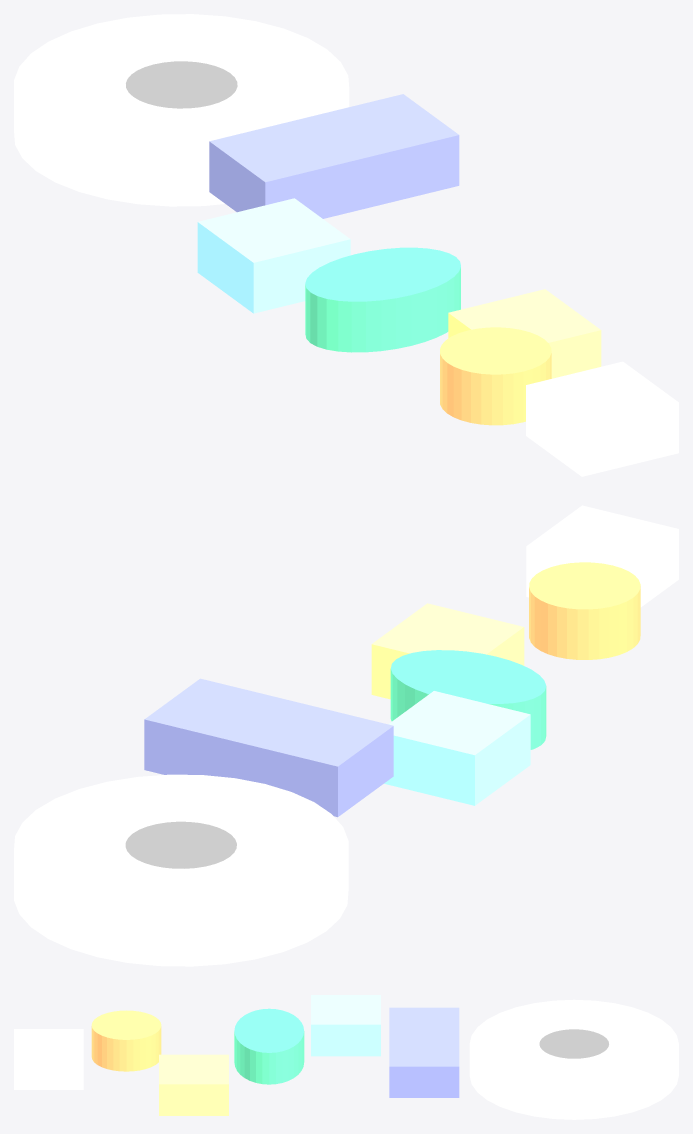
Rendered from map002.fbx.
3 renders of one model, top to bottom at view 1: azimuth 30°, elevation 25°; view 2: azimuth 150°, elevation 25°; view 3: azimuth 270°, elevation 25°, orthographic. The views are drawn at different scales.
Visible parts, largest first — view 1: 7, 6, 4, 1, 5, 2, 3, 7-1; view 2: 7, 6, 5, 2, 1, 4, 3, 7-1; view 3: 7, 6, 4, 3, 5, 1, 2, 7-1.
Part boxes in pixels (x1,y1,x2,y2): 7: [14, 14, 349, 206]; 6: [209, 94, 459, 218]; 4: [305, 247, 460, 352]; 1: [526, 361, 678, 476]; 5: [197, 198, 350, 313]; 2: [440, 327, 551, 425]; 3: [448, 289, 601, 378]; 7-1: [126, 61, 237, 108]; 7: [14, 774, 348, 966]; 6: [144, 678, 393, 817]; 5: [384, 691, 530, 805]; 2: [529, 562, 640, 659]; 1: [526, 505, 678, 607]; 4: [390, 650, 546, 749]; 3: [371, 603, 524, 699]; 7-1: [125, 821, 236, 868]; 7: [469, 999, 678, 1119]; 6: [389, 1007, 459, 1097]; 4: [234, 1008, 304, 1084]; 3: [159, 1054, 228, 1115]; 5: [311, 995, 380, 1056]; 1: [14, 1029, 83, 1089]; 2: [91, 1010, 161, 1071]; 7-1: [539, 1029, 608, 1058].
Size of the model in its own units: 600 by 197 by 1905.
